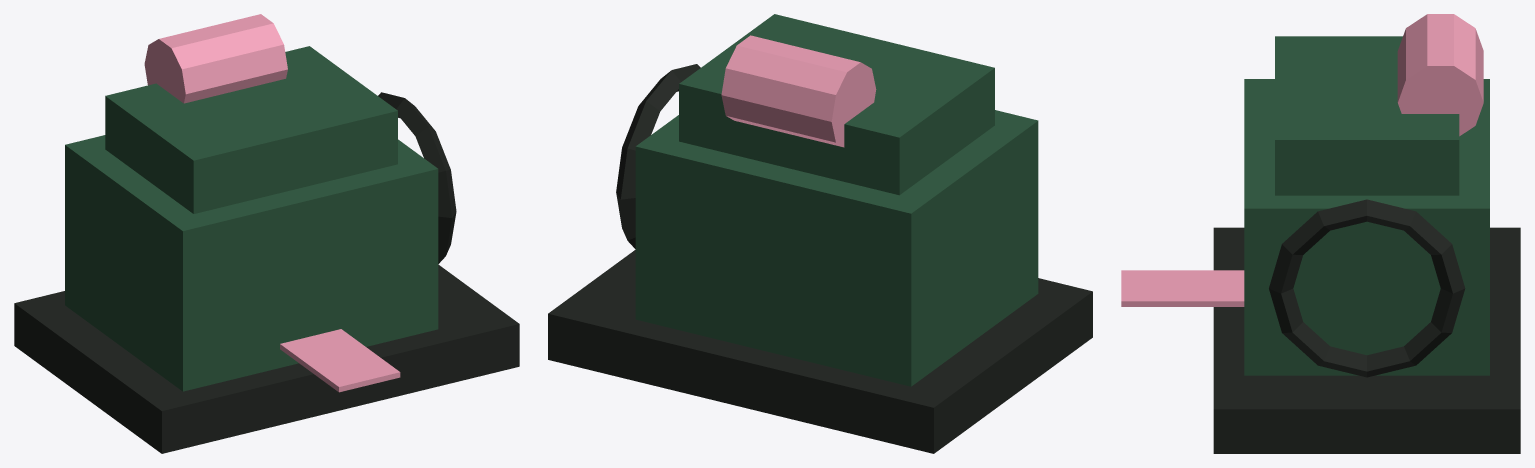
File: ticket_press.glb
The picture shows the model from 3 angles, left to right: view 1: azimuth 30°, elevation 25°; view 2: azimuth 150°, elevation 25°; view 3: azimuth 270°, elevation 25°; orthographic projection. The views are drawn at different scales.
Visible parts, largest first — view 1: body_press_iron, base_press_dark, top_press_iron, roll_ticket_pink, strip_ticket_pink, wheel_press_dark; view 2: body_press_iron, base_press_dark, top_press_iron, roll_ticket_pink, wheel_press_dark; view 3: body_press_iron, base_press_dark, top_press_iron, wheel_press_dark, roll_ticket_pink, strip_ticket_pink.
Part boxes in pixels (bbox=[...]): body_press_iron: bbox=[65, 135, 438, 391]; base_press_dark: bbox=[14, 264, 519, 453]; top_press_iron: bbox=[105, 46, 397, 213]; roll_ticket_pink: bbox=[144, 14, 287, 103]; strip_ticket_pink: bbox=[280, 329, 400, 392]; wheel_press_dark: bbox=[378, 92, 456, 263]; body_press_iron: bbox=[635, 110, 1038, 386]; base_press_dark: bbox=[548, 250, 1092, 453]; top_press_iron: bbox=[679, 14, 994, 195]; roll_ticket_pink: bbox=[721, 35, 876, 147]; wheel_press_dark: bbox=[616, 64, 700, 248]; body_press_iron: bbox=[1244, 79, 1489, 375]; base_press_dark: bbox=[1213, 227, 1520, 453]; top_press_iron: bbox=[1275, 36, 1459, 195]; wheel_press_dark: bbox=[1269, 199, 1465, 377]; roll_ticket_pink: bbox=[1397, 14, 1483, 136]; strip_ticket_pink: bbox=[1121, 270, 1244, 306].
Size of the model in its own units: 0.7 by 0.5666 by 0.65.
